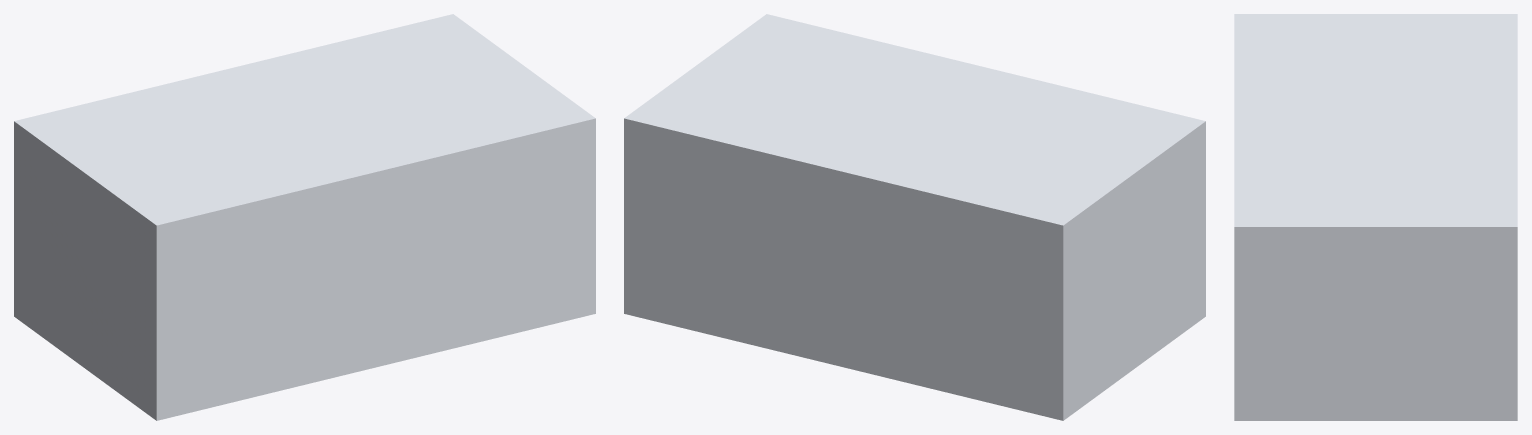
The model's file is campus_environment_v3.glb.
3 renders of one model, left to right at view 1: azimuth 30°, elevation 25°; view 2: azimuth 150°, elevation 25°; view 3: azimuth 270°, elevation 25°, orthographic.
Parts seen in each view (by area): view 1: Bldg_ModernGlass_Wing_V3; view 2: Bldg_ModernGlass_Wing_V3; view 3: Bldg_ModernGlass_Wing_V3.
Part boxes in pixels (<box>): Bldg_ModernGlass_Wing_V3: <box>14,14,595,420</box>; Bldg_ModernGlass_Wing_V3: <box>624,14,1205,420</box>; Bldg_ModernGlass_Wing_V3: <box>1234,14,1517,420</box>.
Bounding box in the file's own units: 32 × 13.6 × 18.
1 material, 1 textured.
